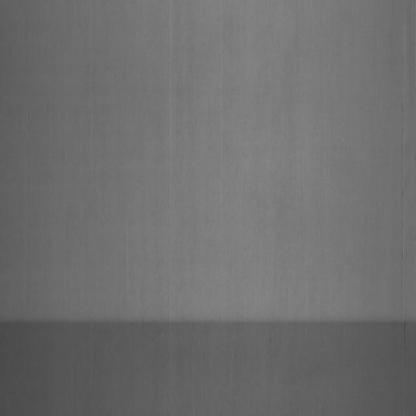welding_line: (0, 307, 411, 346)
